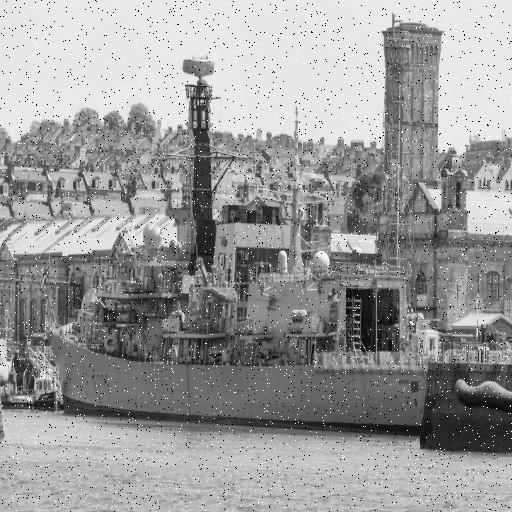Fragata: (42, 52, 448, 426)
